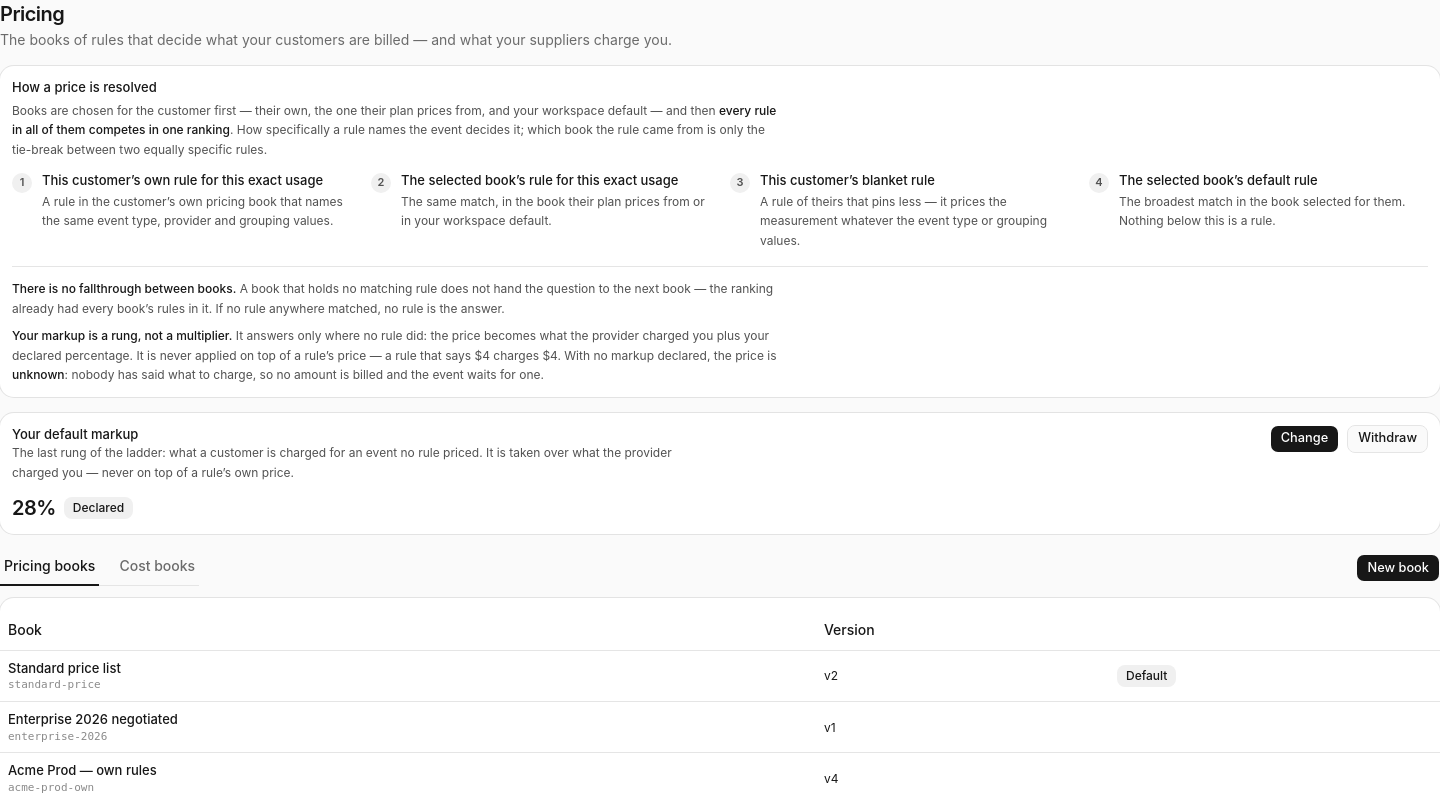
Test: the tenant's default markup rung › says an absent declaration is not a zero
This screenshot has width=1440, height=800.
Check: the text "28%" is shown, box left=12, top=494, right=56, bottom=522
Click the button "Withdraw": {"x": 1388, "y": 439} left=1347, top=425, right=1428, bottom=453
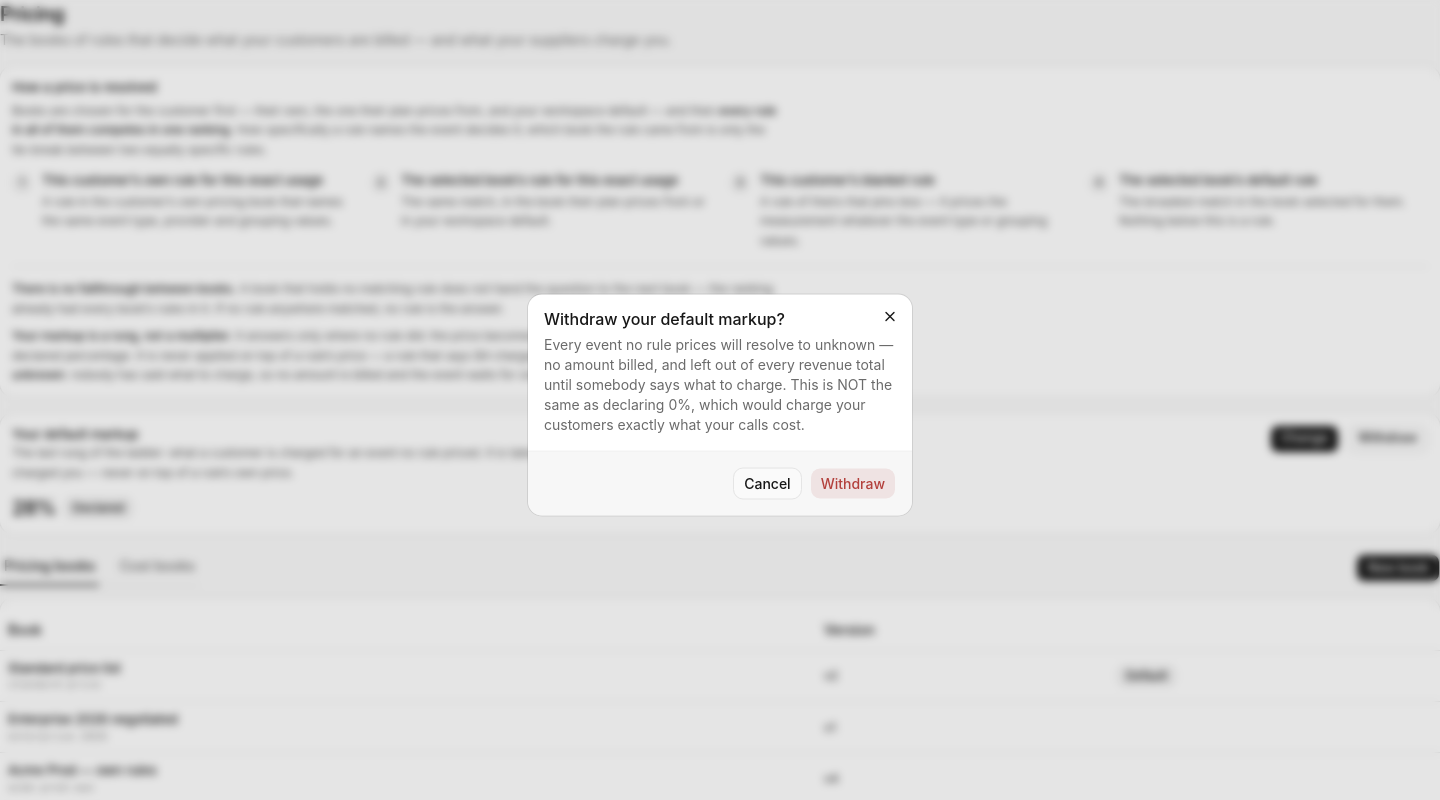
Check: the text "will resolve to unknown — no amount billed" is shown, box left=544, top=336, right=893, bottom=432
Click the button "Withdraw": {"x": 853, "y": 484} left=810, top=468, right=896, bottom=500
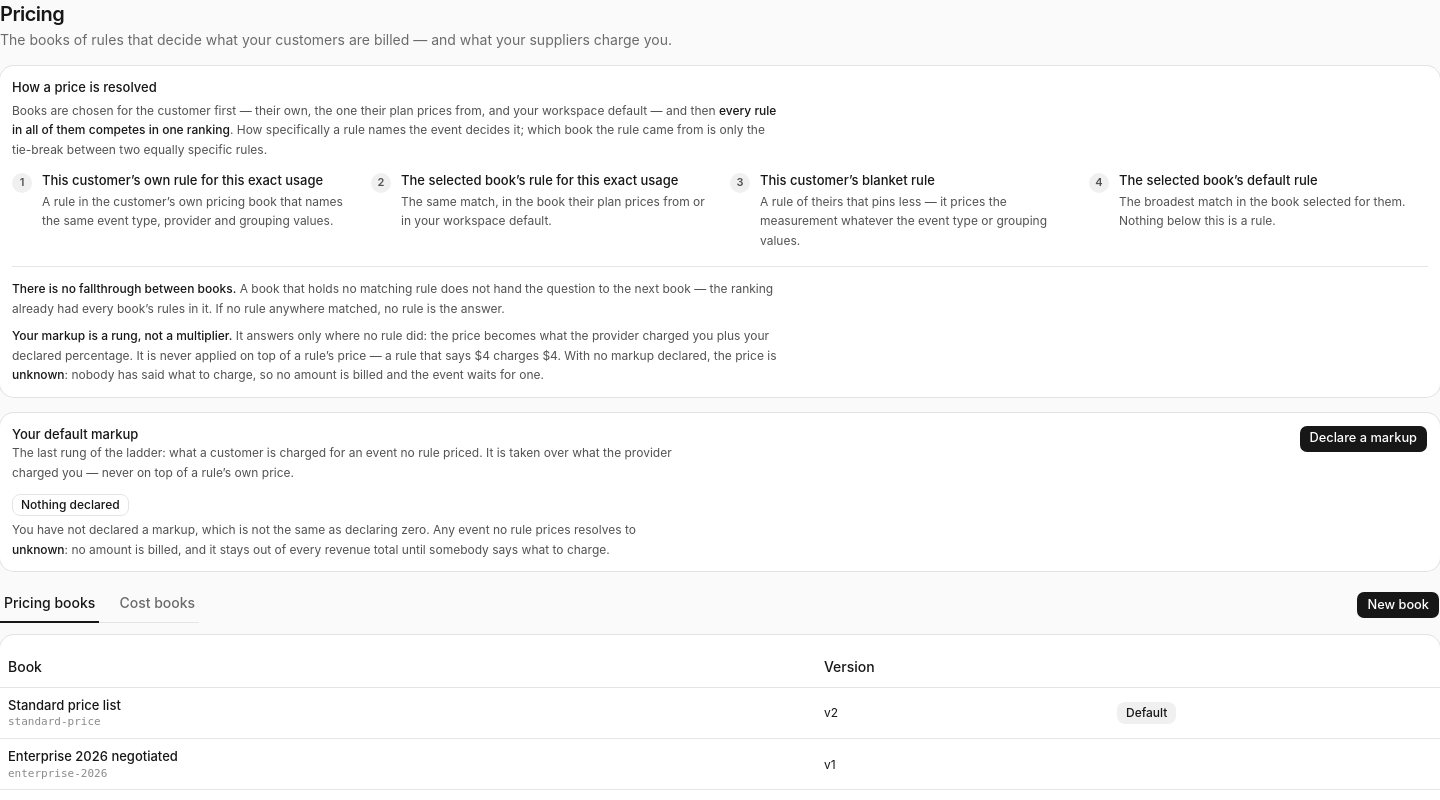
Check: the text "Nothing declared" is shown, box left=12, top=494, right=129, bottom=516
Check: the text "0%" is gone
Check: the text "resolves to" is shown, box left=12, top=522, right=636, bottom=537
